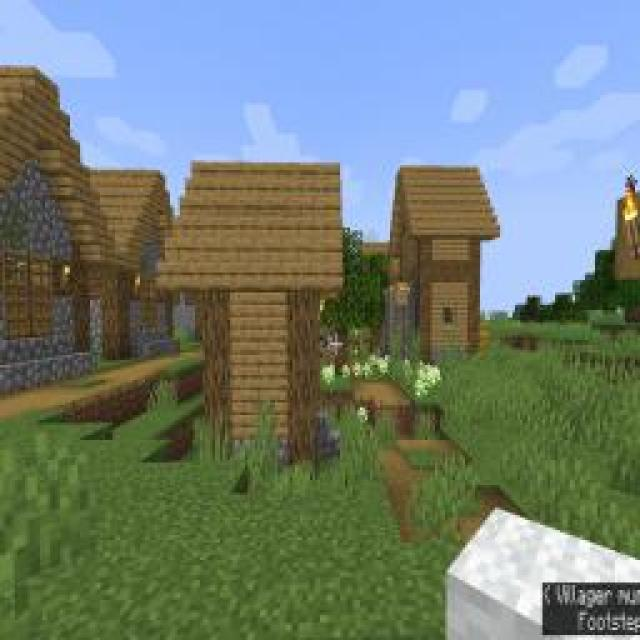Villager: (155, 152, 347, 468), (0, 62, 105, 382), (386, 157, 499, 355), (91, 151, 181, 369)
